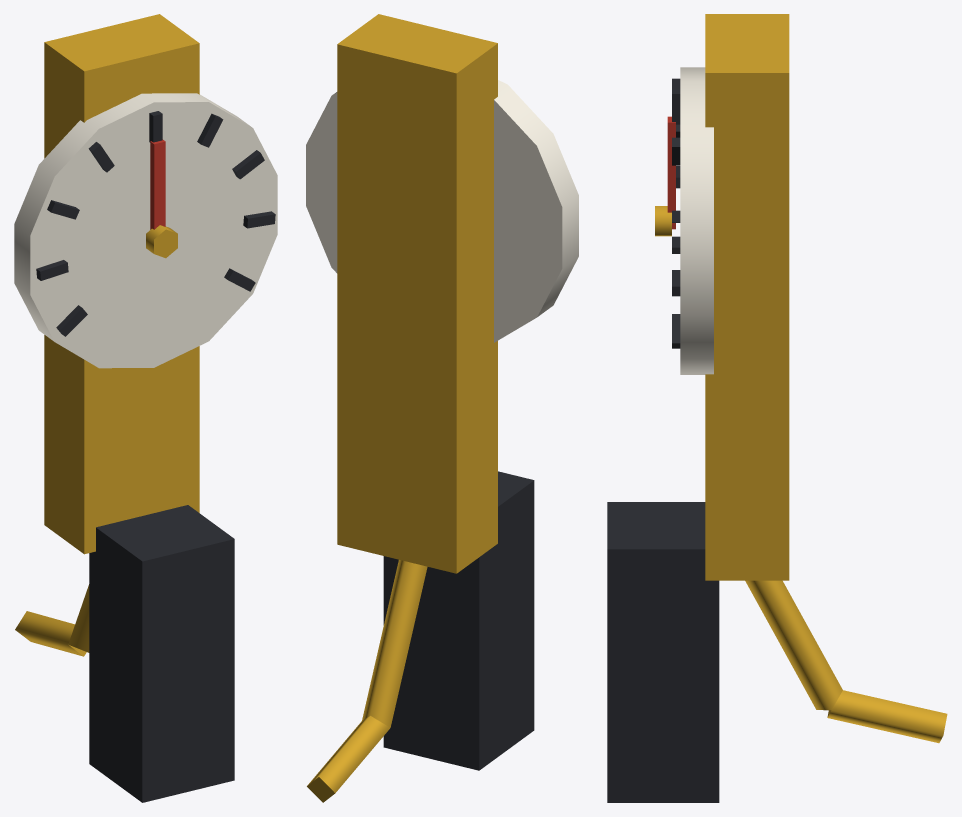
Rendered from tool_scale.glb.
3 renders of one model, left to right at view 1: azimuth 30°, elevation 25°; view 2: azimuth 150°, elevation 25°; view 3: azimuth 270°, elevation 25°, orthographic. The views are drawn at different scales.
Visible parts, largest first — view 1: Face, _MeshInstance3D_1289, _MeshInstance3D_1290, _MeshInstance3D_1304, _MeshInstance3D_1301, _MeshInstance3D_1302, _MeshInstance3D_1303; view 2: _MeshInstance3D_1290, _MeshInstance3D_1289, Face, _MeshInstance3D_1303, _MeshInstance3D_1304; view 3: _MeshInstance3D_1290, _MeshInstance3D_1289, Face, _MeshInstance3D_1303, _MeshInstance3D_1304, _MeshInstance3D_1301.
Part boxes in pixels (<box>): Face: <box>14,93,277,368</box>; _MeshInstance3D_1289: <box>89,505,234,802</box>; _MeshInstance3D_1290: <box>44,14,199,554</box>; _MeshInstance3D_1304: <box>15,611,86,656</box>; _MeshInstance3D_1301: <box>150,139,165,229</box>; _MeshInstance3D_1302: <box>146,225,177,258</box>; _MeshInstance3D_1303: <box>68,584,89,652</box>; _MeshInstance3D_1290: <box>337,14,497,573</box>; _MeshInstance3D_1289: <box>383,471,534,770</box>; Face: <box>306,80,578,342</box>; _MeshInstance3D_1303: <box>362,560,427,727</box>; _MeshInstance3D_1304: <box>307,716,389,802</box>; _MeshInstance3D_1290: <box>705,14,789,580</box>; _MeshInstance3D_1289: <box>607,502,719,802</box>; Face: <box>680,67,713,374</box>; _MeshInstance3D_1303: <box>745,580,842,710</box>; _MeshInstance3D_1304: <box>827,690,947,743</box>; _MeshInstance3D_1301: <box>667,116,675,229</box>.
Bounding box in the file's own units: 0.1072 × 0.29 × 0.1215.
